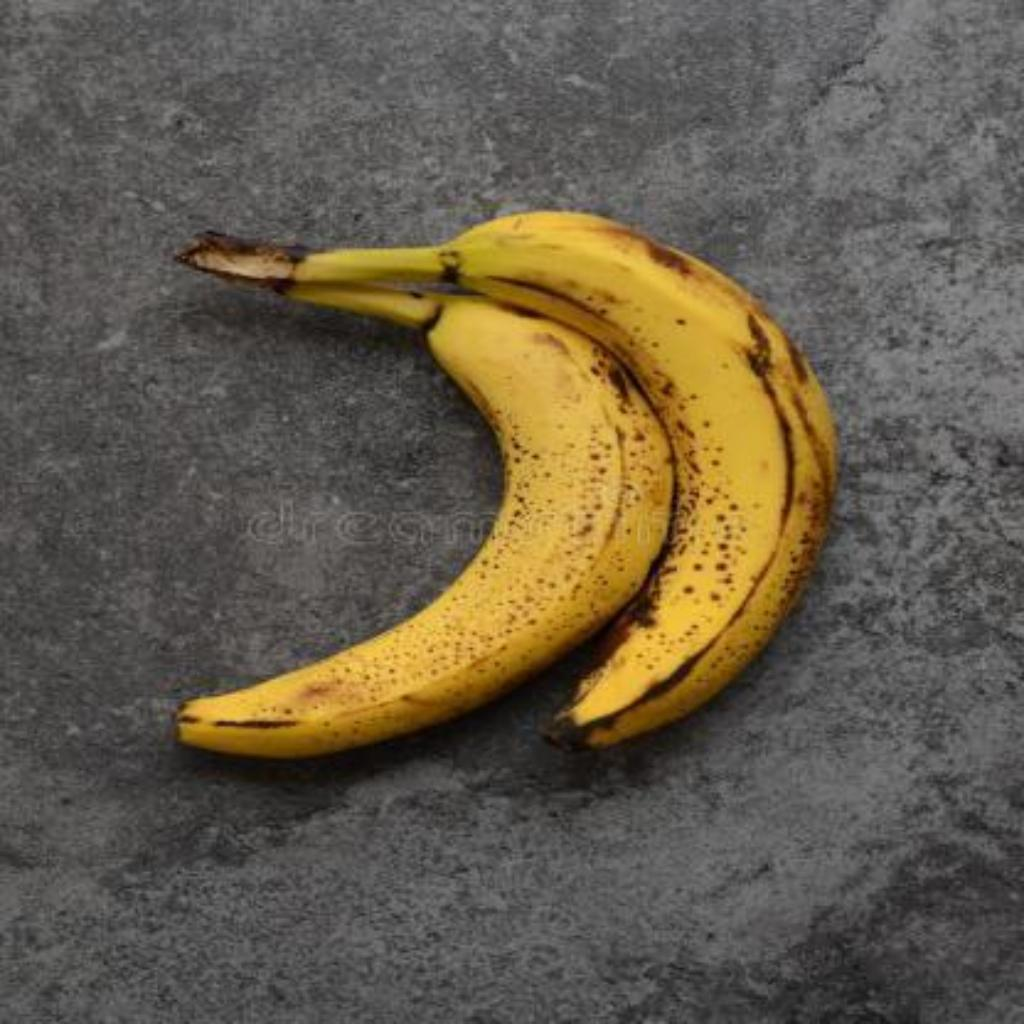banana: (226, 219, 788, 751), (182, 320, 665, 751)
